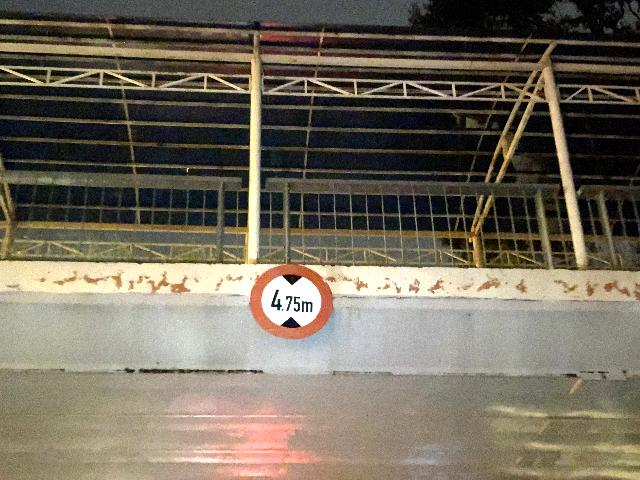han-che-chieu-cao: (250, 264, 333, 340)
